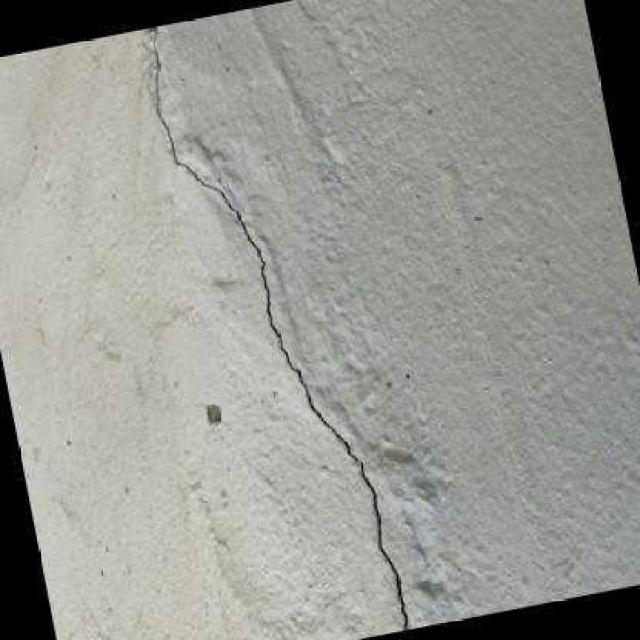D00: (153, 26, 407, 630)
